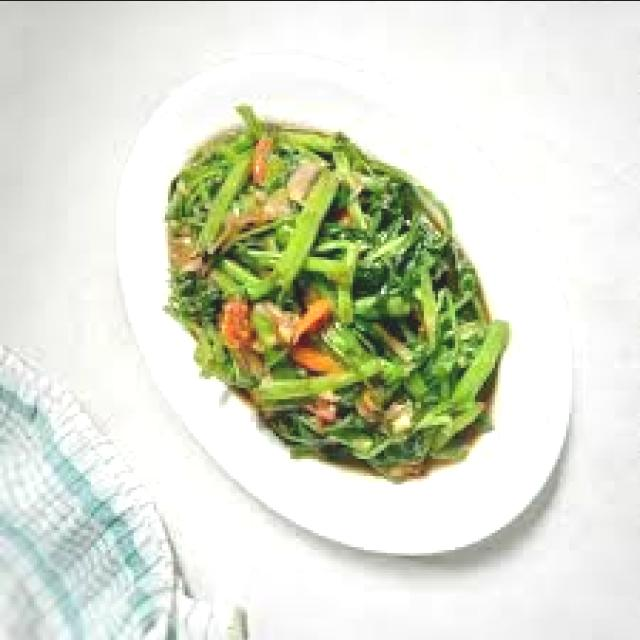tumis kangkung: (169, 76, 505, 517)
